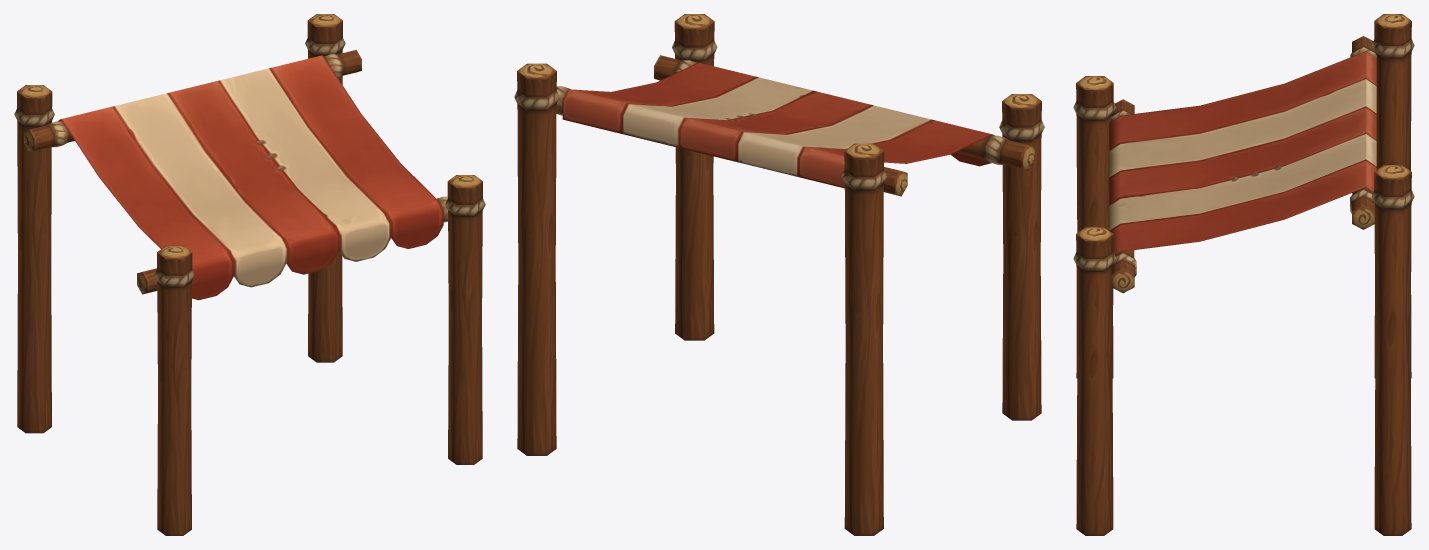
The model's file is Market_tent_red.fbx.
3 renders of one model, left to right at view 1: azimuth 30°, elevation 25°; view 2: azimuth 150°, elevation 25°; view 3: azimuth 270°, elevation 25°, orthographic. The views are drawn at different scales.
Visible parts, largest first — view 1: Market_tent_red; view 2: Market_tent_red; view 3: Market_tent_red.
Part boxes in pixels (x1,y1,x2,y2): Market_tent_red: (14, 14, 485, 535); Market_tent_red: (514, 14, 1044, 535); Market_tent_red: (1073, 14, 1414, 535).
Bounding box in the file's own units: 3.22 × 3.11 × 2.66.
